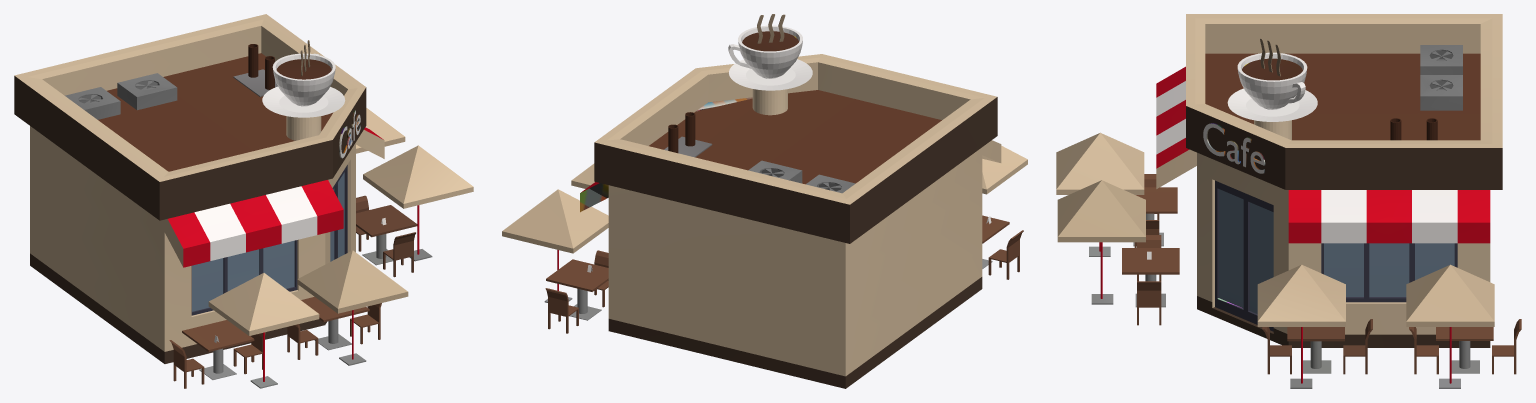
The model's file is cafe 4.fbx.
3 views of the same model, side by side, from view 1: azimuth 30°, elevation 25°; view 2: azimuth 150°, elevation 25°; view 3: azimuth 270°, elevation 25° (orthographic). The views are drawn at different scales.
Parts seen in each view (by area): view 1: Cafe, umbrella.001, umbrella, umbrella.002, chair.002, chair.005, chair, umbrella.003; view 2: Cafe, umbrella.003, chair.006, chair.002, umbrella.001; view 3: Cafe, umbrella, umbrella.003, umbrella.002, umbrella.001, chair, chair.005, chair.006, chair.002.
Boxes of the visible parts, box(x1,y1,x2,y2) form: Cafe: box(14, 14, 384, 363); umbrella.001: box(208, 273, 319, 388); umbrella: box(297, 250, 408, 365); umbrella.002: box(363, 145, 473, 261); chair.002: box(169, 320, 265, 388); chair.005: box(356, 195, 417, 277); chair: box(287, 297, 381, 359); umbrella.003: box(356, 108, 405, 153); Cafe: box(580, 14, 1001, 388); umbrella.003: box(502, 189, 608, 302); chair.006: box(545, 250, 608, 333); chair.002: box(982, 215, 1023, 279); umbrella.001: box(982, 145, 1027, 194); Cafe: box(1156, 14, 1502, 347); umbrella: box(1057, 180, 1145, 304); umbrella.003: box(1406, 264, 1494, 388); umbrella.002: box(1257, 264, 1345, 388); umbrella.001: box(1056, 132, 1144, 256); chair: box(1122, 235, 1179, 325); chair.005: box(1262, 319, 1372, 374); chair.006: box(1409, 319, 1521, 374); chair.002: box(1133, 174, 1177, 247).
Size of the model in its own units: 1161 by 808 by 1231.
1 material, 1 textured.
